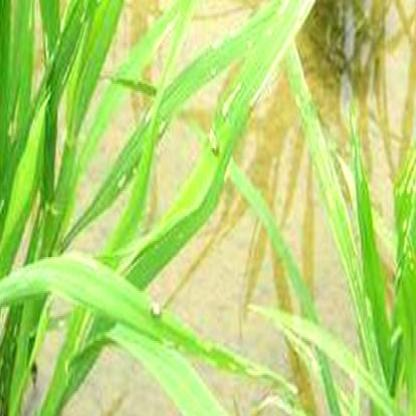rice-bug: (204, 127, 221, 157), (150, 294, 164, 318)
